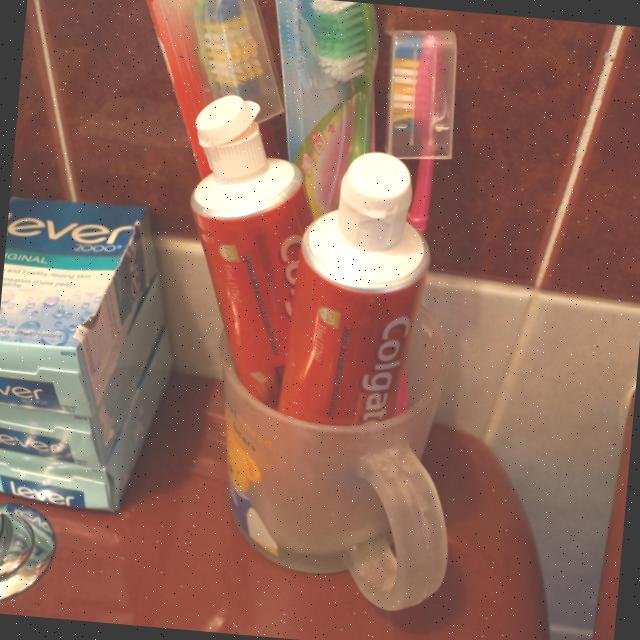Toothpaste: (156, 94, 312, 406), (289, 138, 431, 425)
